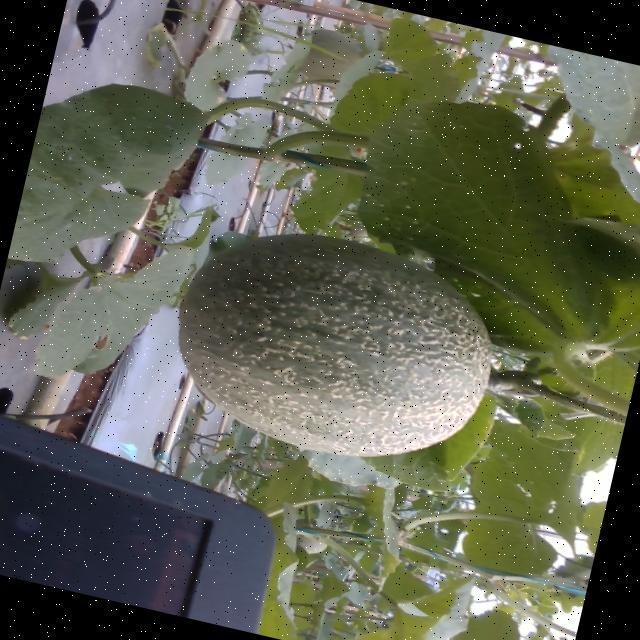melon: (178, 235, 489, 457)
